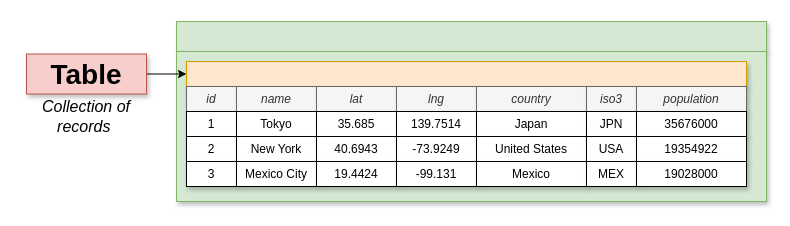
Some shapes in this 790 by 226 pixel diagram are drawn without their labels. The shapes that lost their labels are listed below. From the top down, each one's centre as x and y in pixels, then its label:
At (x=472, y=37): "Database".
At (x=467, y=75): "cities".
